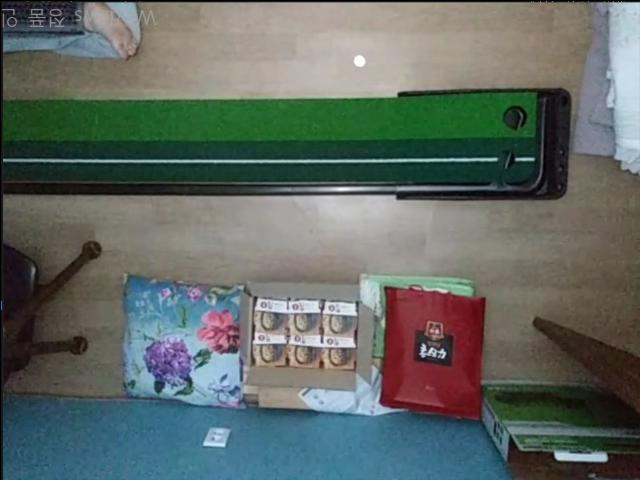golf_ball: (352, 53, 366, 67)
green_zone: (1, 92, 536, 182)
hole: (502, 104, 527, 129), (497, 149, 514, 168)
